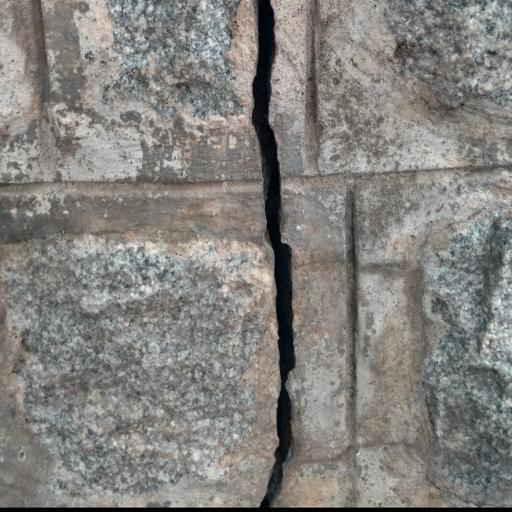major_crack: (232, 0, 314, 507)
